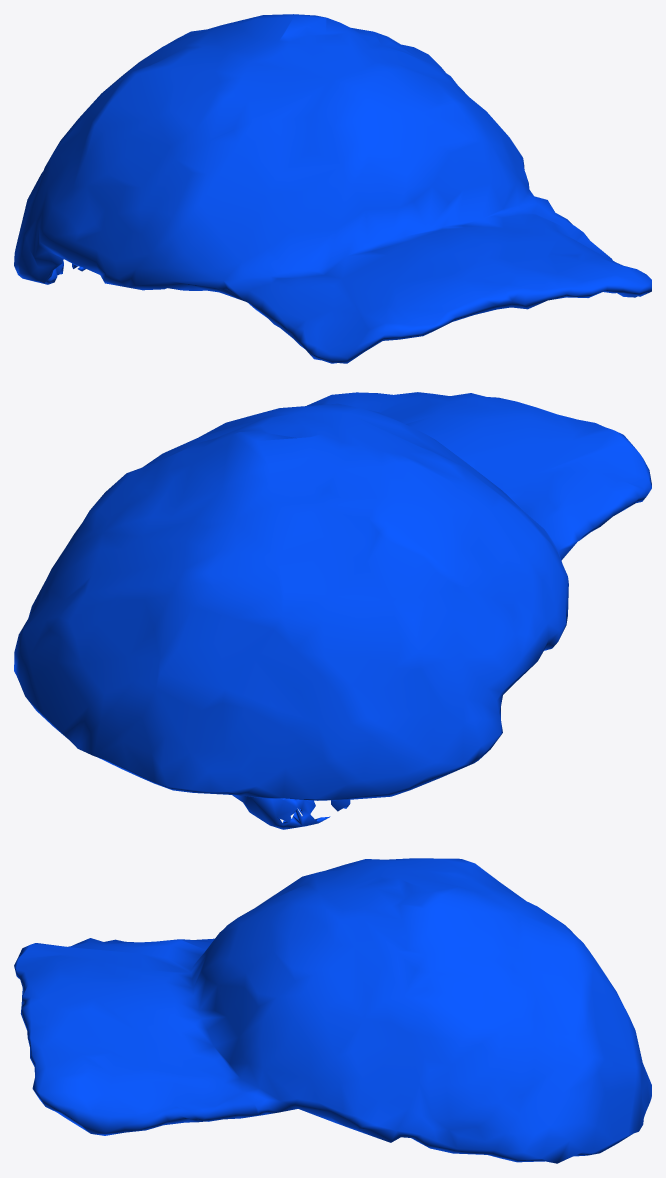
File: cap based blue.glb
The picture shows the model from 3 angles, top to bottom: view 1: azimuth 30°, elevation 25°; view 2: azimuth 150°, elevation 25°; view 3: azimuth 270°, elevation 25°; orthographic projection. The views are drawn at different scales.
Parts seen in each view (by area): view 1: cap_based_blue.001; view 2: cap_based_blue.001; view 3: cap_based_blue.001.
Boxes of the visible parts, x1,y1,x2,y2 form: cap_based_blue.001: (14,14,651,363); cap_based_blue.001: (14,392,651,829); cap_based_blue.001: (14,858,651,1163).
Bounding box in the file's own units: 0.3439 × 0.2081 × 0.4611.
